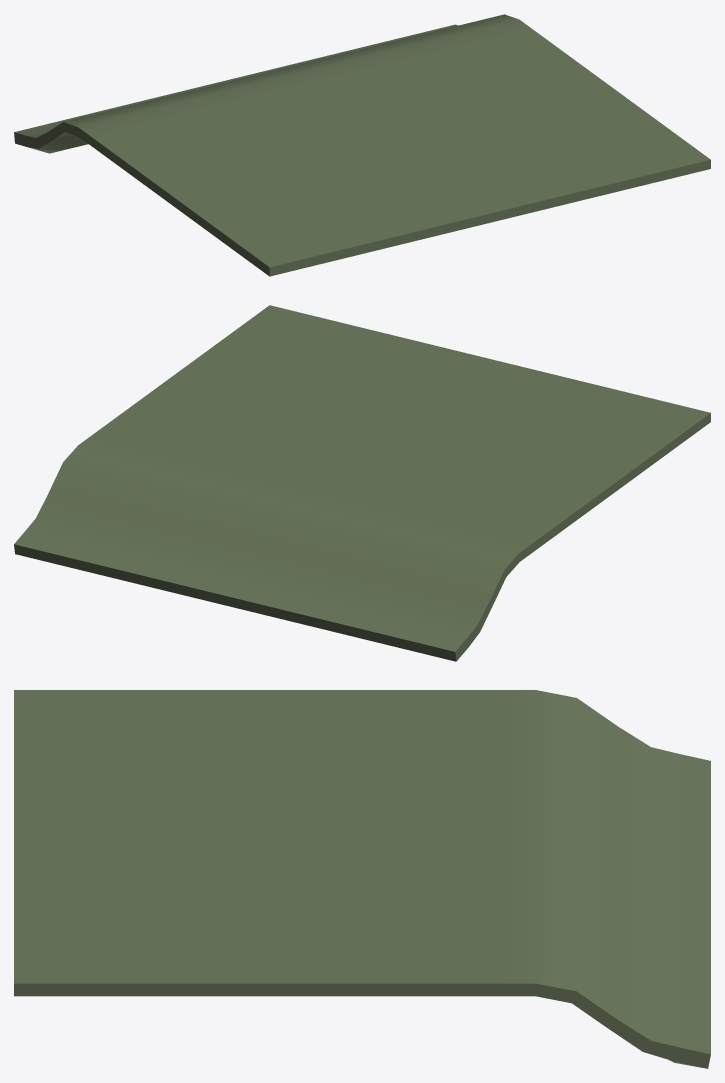
The model's file is ground_hill.fbx.
3 renders of one model, top to bottom at view 1: azimuth 30°, elevation 25°; view 2: azimuth 150°, elevation 25°; view 3: azimuth 270°, elevation 25°, orthographic. The views are drawn at different scales.
Parts seen in each view (by area): view 1: hilled_ground; view 2: hilled_ground; view 3: hilled_ground.
Boxes of the visible parts, <box> form: hilled_ground: <box>14,14,710,276</box>; hilled_ground: <box>14,305,710,661</box>; hilled_ground: <box>14,690,710,1068</box>.
Size of the model in its own units: 50 by 7.47 by 50.17.
